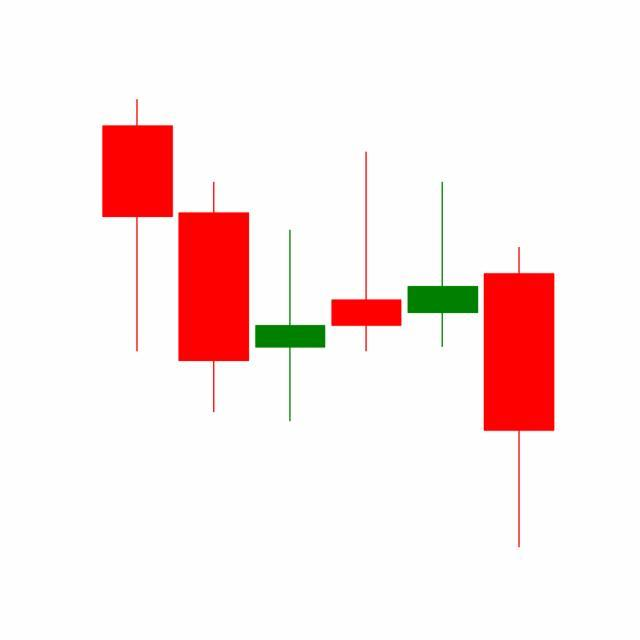Hikkake Pattern: (175, 147, 555, 548)
